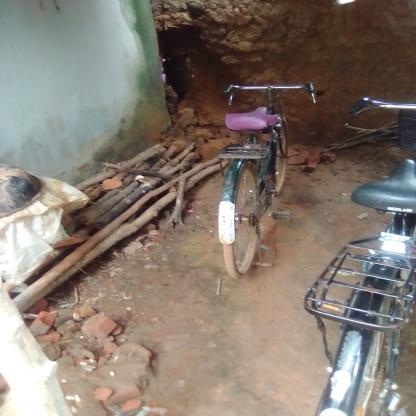bike: (301, 55, 413, 416), (198, 71, 322, 288)
